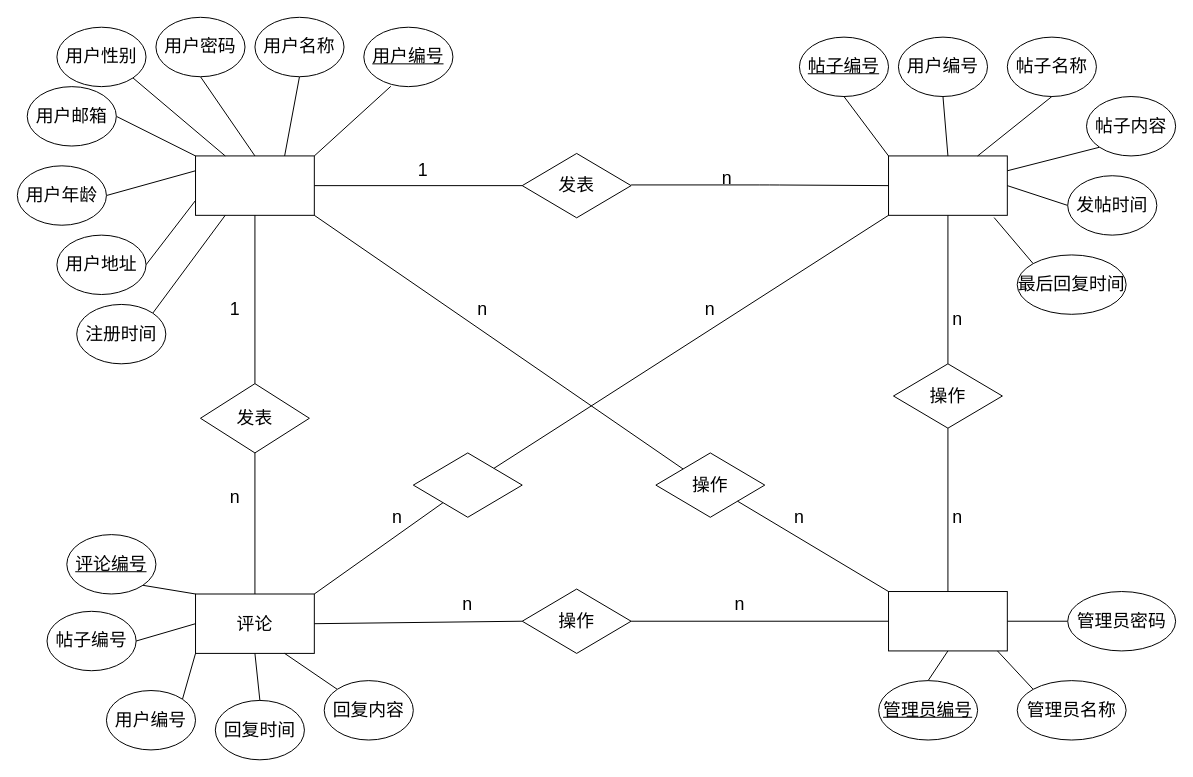
Some shapes in this 1193 by 777 pixel diagram are drawn without their labels. The shapes that lost their labels are listed below. From the top down, each one's centre as x and y in pixels, then its label:
the point at 254,185: 用户
the point at 947,185: 帖子
the point at 467,484: 归属
the point at 947,621: 管理员
